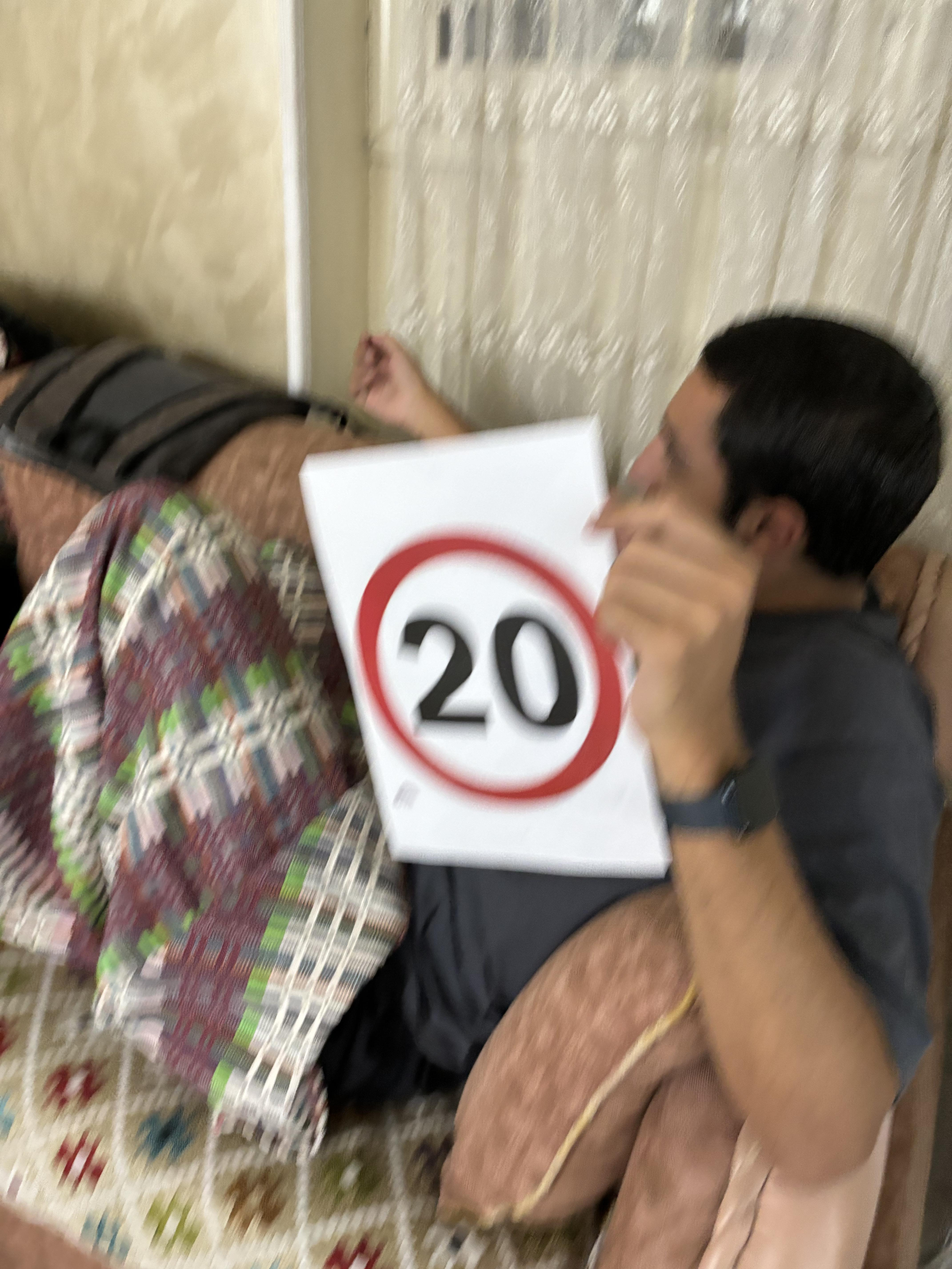20-Speed: (349, 527, 632, 808)
